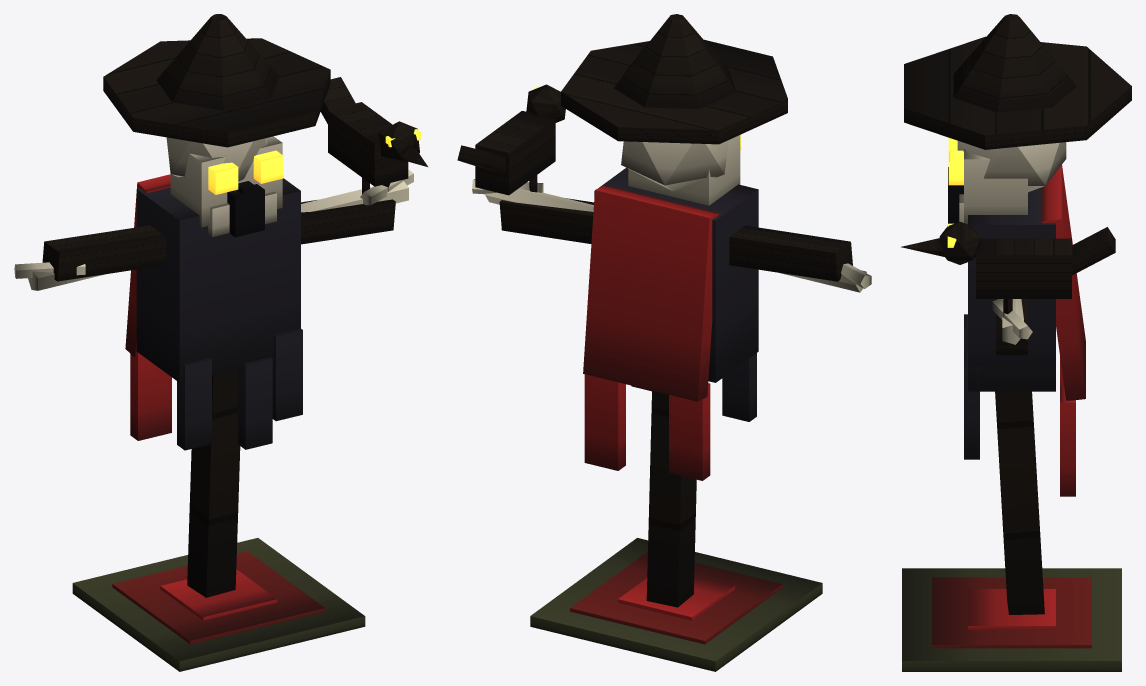
File: dark_scarecrow.gltf
The picture shows the model from 3 angles, left to right: view 1: azimuth 30°, elevation 25°; view 2: azimuth 150°, elevation 25°; view 3: azimuth 270°, elevation 25°; orthographic projection. The views are drawn at different scales.
Parts seen in each view (by area): view 1: dark_scarecrow; view 2: dark_scarecrow; view 3: dark_scarecrow.
Part boxes in pixels (<box>): dark_scarecrow: <box>14,14,427,671</box>; dark_scarecrow: <box>457,14,871,671</box>; dark_scarecrow: <box>901,14,1131,671</box>.
Size of the model in its own units: 1.18 by 1.71 by 0.58.
1 material, 1 textured.
